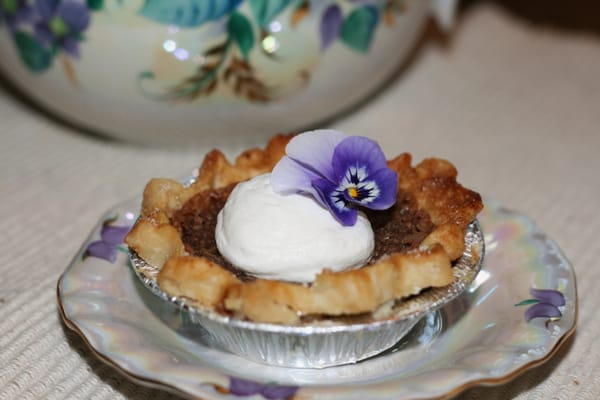curry: (2, 0, 591, 393)
sushi: (125, 131, 481, 325)
